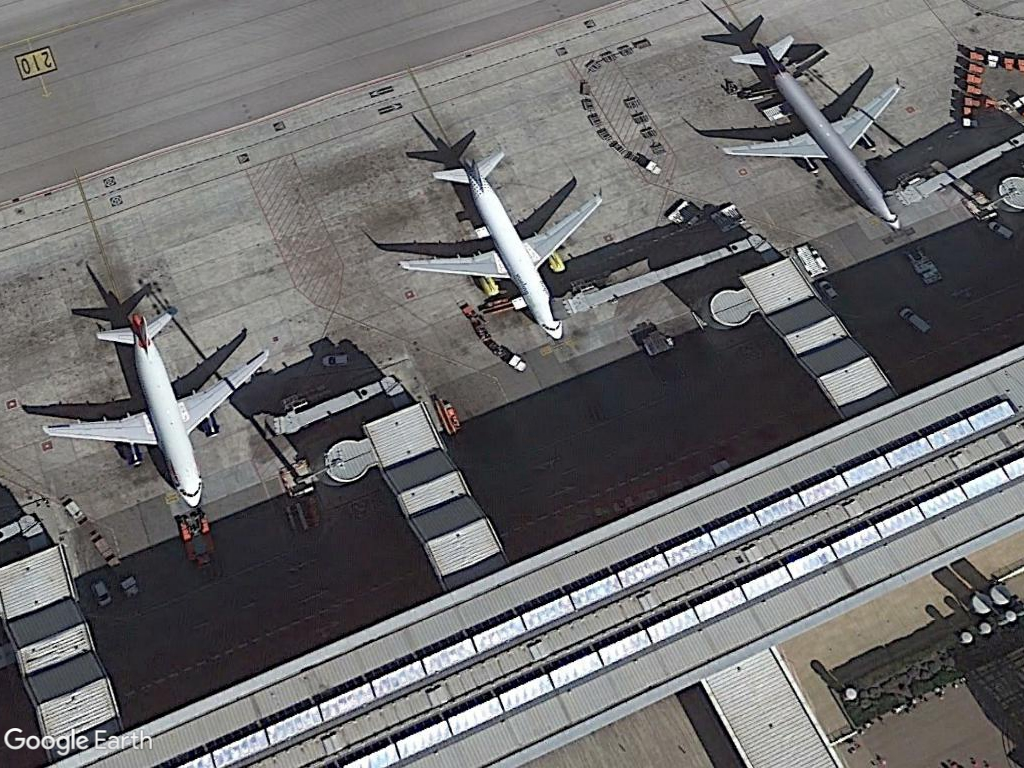airliner: (34, 301, 275, 512), (391, 143, 604, 349), (717, 29, 909, 240)
pushbacktruck: (172, 512, 225, 570), (900, 243, 946, 288)
